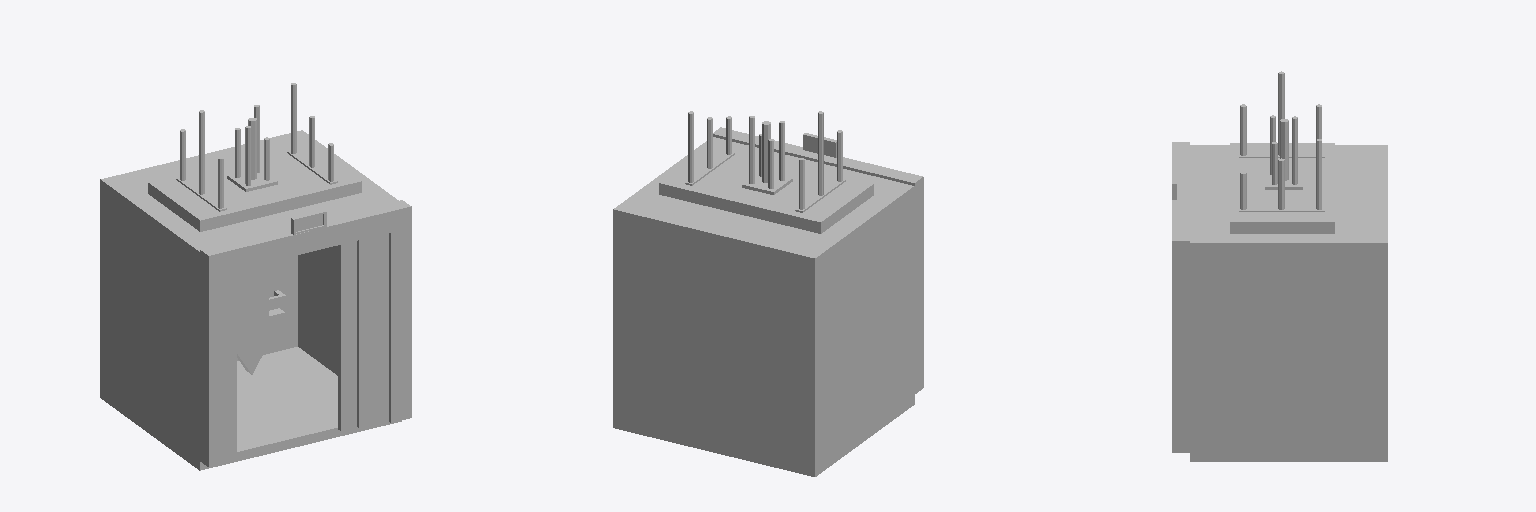
Rendered from downElevator.obj.
3 renders of one model, left to right at view 1: azimuth 30°, elevation 25°; view 2: azimuth 150°, elevation 25°; view 3: azimuth 270°, elevation 25°, orthographic.
Visible parts, largest first — view 1: SM_Elevator, Arrow; view 2: SM_Elevator; view 3: SM_Elevator.
Boxes of the visible parts, x1=… form: SM_Elevator: x1=100, y1=83, x2=411, y2=470; Arrow: x1=237, y1=262, x2=284, y2=374; SM_Elevator: x1=613, y1=111, x2=923, y2=476; SM_Elevator: x1=1172, y1=71, x2=1387, y2=461.
Bounding box in the file's own units: 0.5011 × 0.7419 × 0.4635.